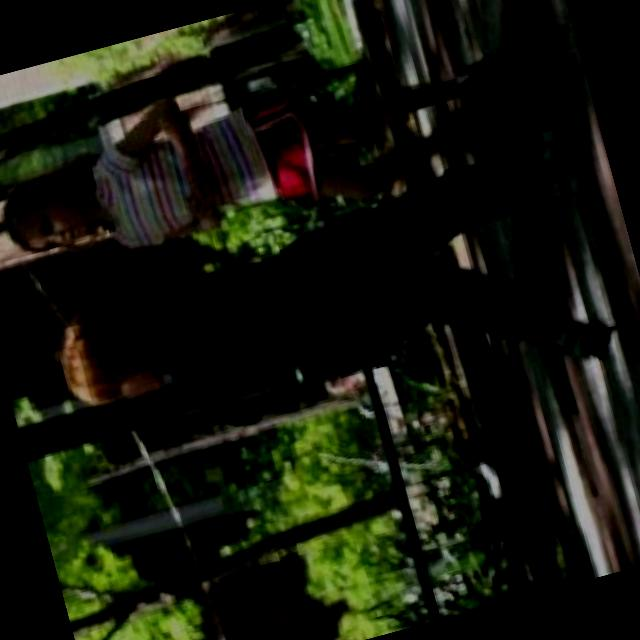Person: (26, 118, 634, 504), (0, 0, 560, 290)
